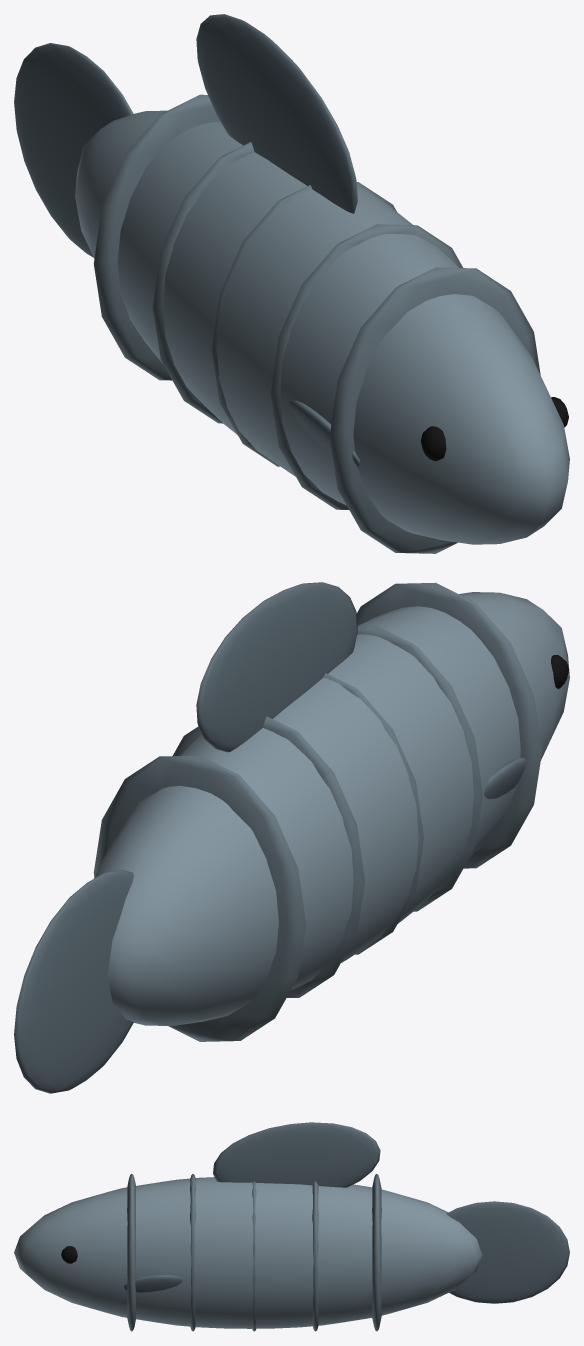
File: tilapia.glb
The picture shows the model from 3 angles, top to bottom: view 1: azimuth 30°, elevation 25°; view 2: azimuth 150°, elevation 25°; view 3: azimuth 270°, elevation 25°; orthographic projection. The views are drawn at different scales.
Parts seen in each view (by area): view 1: tilapia; view 2: tilapia; view 3: tilapia.
Boxes of the visible parts, x1=… form: tilapia: x1=14, y1=14, x2=569, y2=553; tilapia: x1=14, y1=582, x2=569, y2=1093; tilapia: x1=14, y1=1122, x2=569, y2=1331.
Bounding box in the file's own units: 0.2163 × 0.3833 × 0.944.
